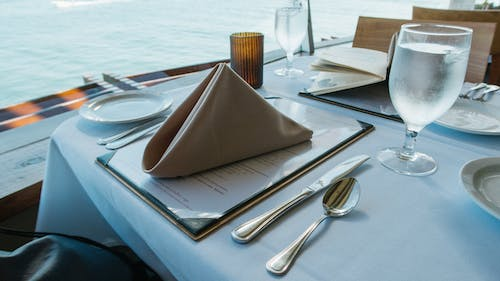knife: (230, 152, 372, 245)
